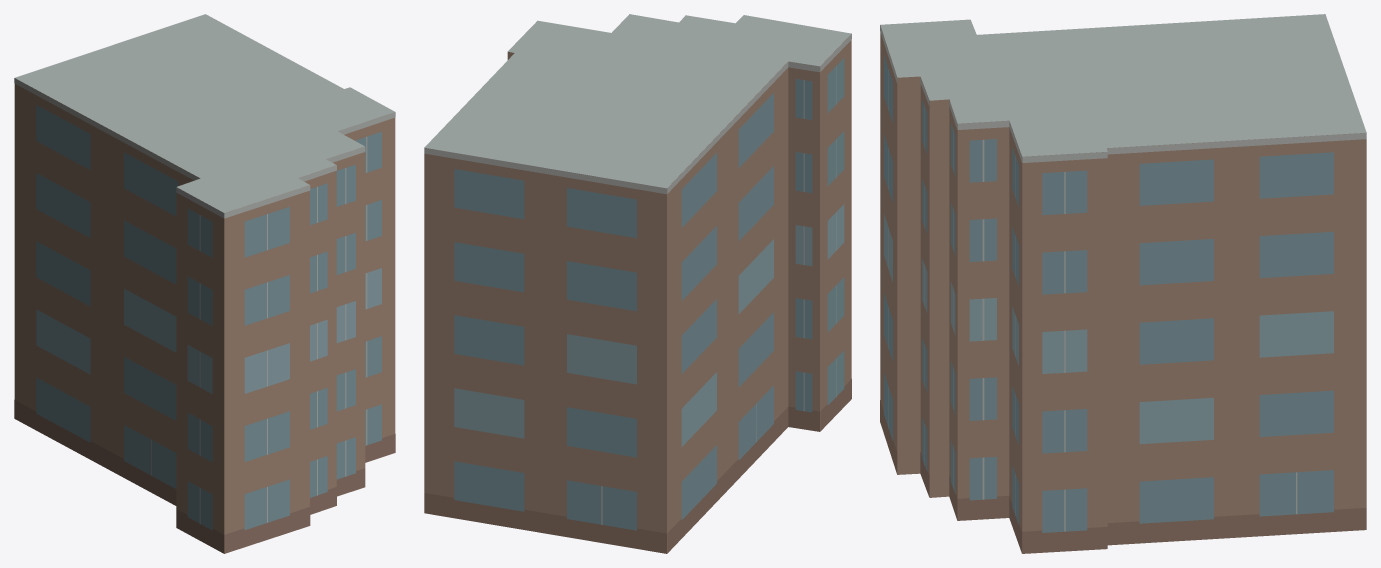
Rendered from survey-upis-32673153.glb.
3 views of the same model, side by side, from view 1: azimuth 30°, elevation 25°; view 2: azimuth 150°, elevation 25°; view 3: azimuth 270°, elevation 25° (orthographic). The views are drawn at different scales.
Visible parts, largest first — view 1: survey-upis-32673153.tmp; view 2: survey-upis-32673153.tmp; view 3: survey-upis-32673153.tmp.
Part boxes in pixels (box(x1,y1,x2,y2)): survey-upis-32673153.tmp: box(14, 14, 395, 553); survey-upis-32673153.tmp: box(424, 14, 851, 553); survey-upis-32673153.tmp: box(880, 14, 1366, 553).
Size of the model in its own units: 11.64 by 15.1 by 16.77.
